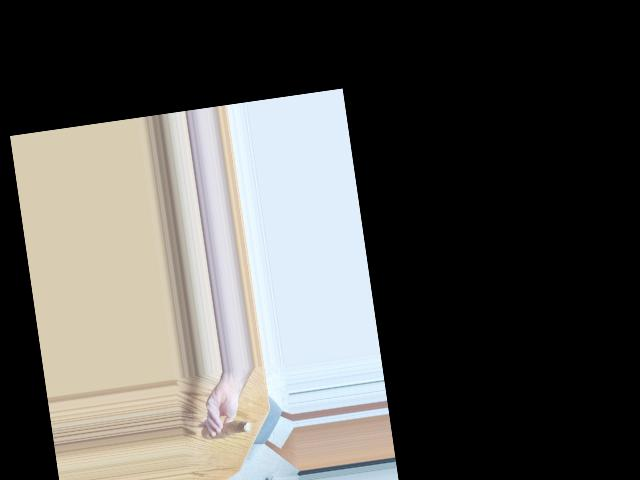sweet_potato: (204, 420, 247, 445)
